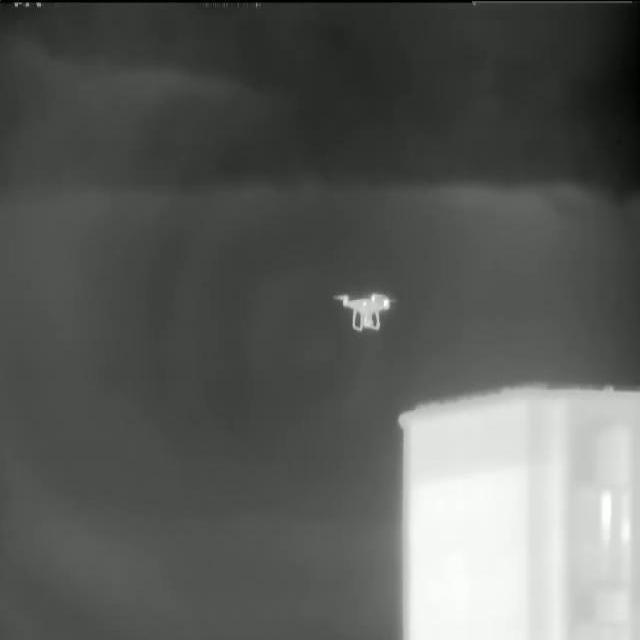DRONE: (330, 289, 397, 336)
